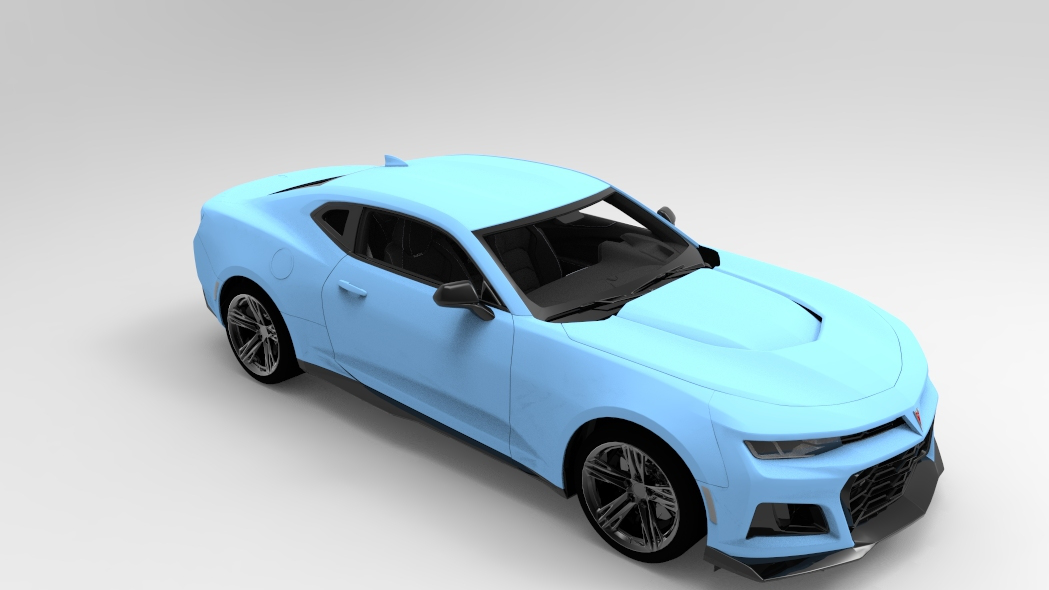hatch: (267, 245, 295, 281)
